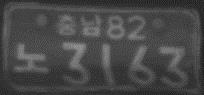1: (96, 43, 119, 84)
2: (128, 14, 148, 40)
3: (60, 41, 91, 85), (158, 45, 189, 88)
6: (127, 45, 155, 85)
8: (106, 14, 125, 39)
노: (13, 41, 48, 73)
충남_O: (57, 13, 103, 37)
